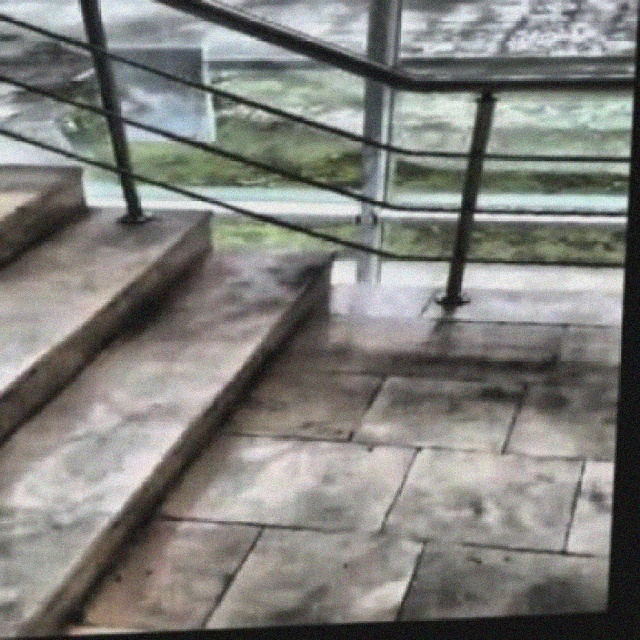stair: (0, 151, 332, 640)
